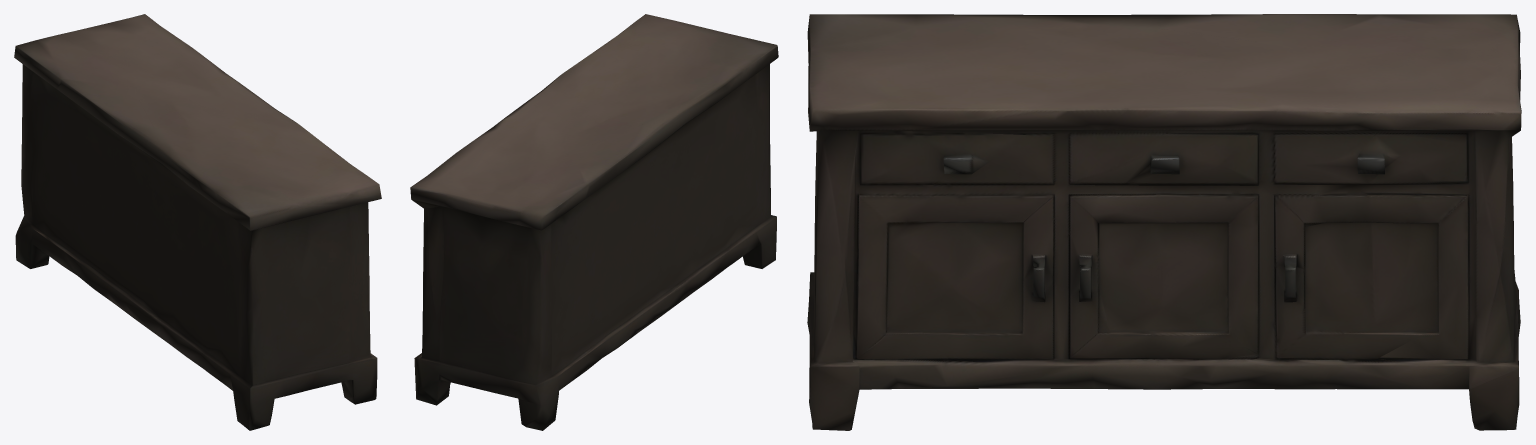
The model's file is wooden+sideboard+3d+model.glb.
3 views of the same model, side by side, from view 1: azimuth 30°, elevation 25°; view 2: azimuth 150°, elevation 25°; view 3: azimuth 270°, elevation 25° (orthographic). The views are drawn at different scales.
Parts seen in each view (by area): view 1: tripo_node_f213e29a-089f-4910-ab0c-fc484d12430a; view 2: tripo_node_f213e29a-089f-4910-ab0c-fc484d12430a; view 3: tripo_node_f213e29a-089f-4910-ab0c-fc484d12430a.
Part boxes in pixels (x1=…): tripo_node_f213e29a-089f-4910-ab0c-fc484d12430a: x1=14, y1=14, x2=381, y2=430; tripo_node_f213e29a-089f-4910-ab0c-fc484d12430a: x1=410, y1=14, x2=778, y2=430; tripo_node_f213e29a-089f-4910-ab0c-fc484d12430a: x1=807, y1=14, x2=1521, y2=430.
Bounding box in the file's own units: 0.3239 × 0.5017 × 1.
1 material, 1 textured.
